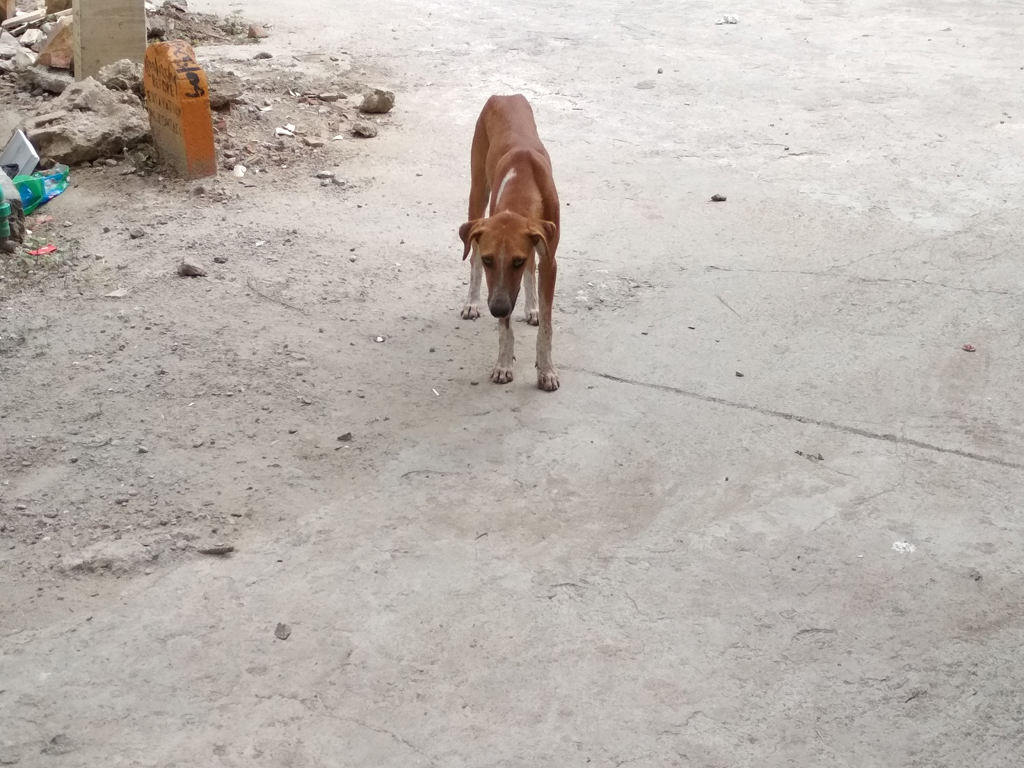dog: (460, 93, 560, 393)
